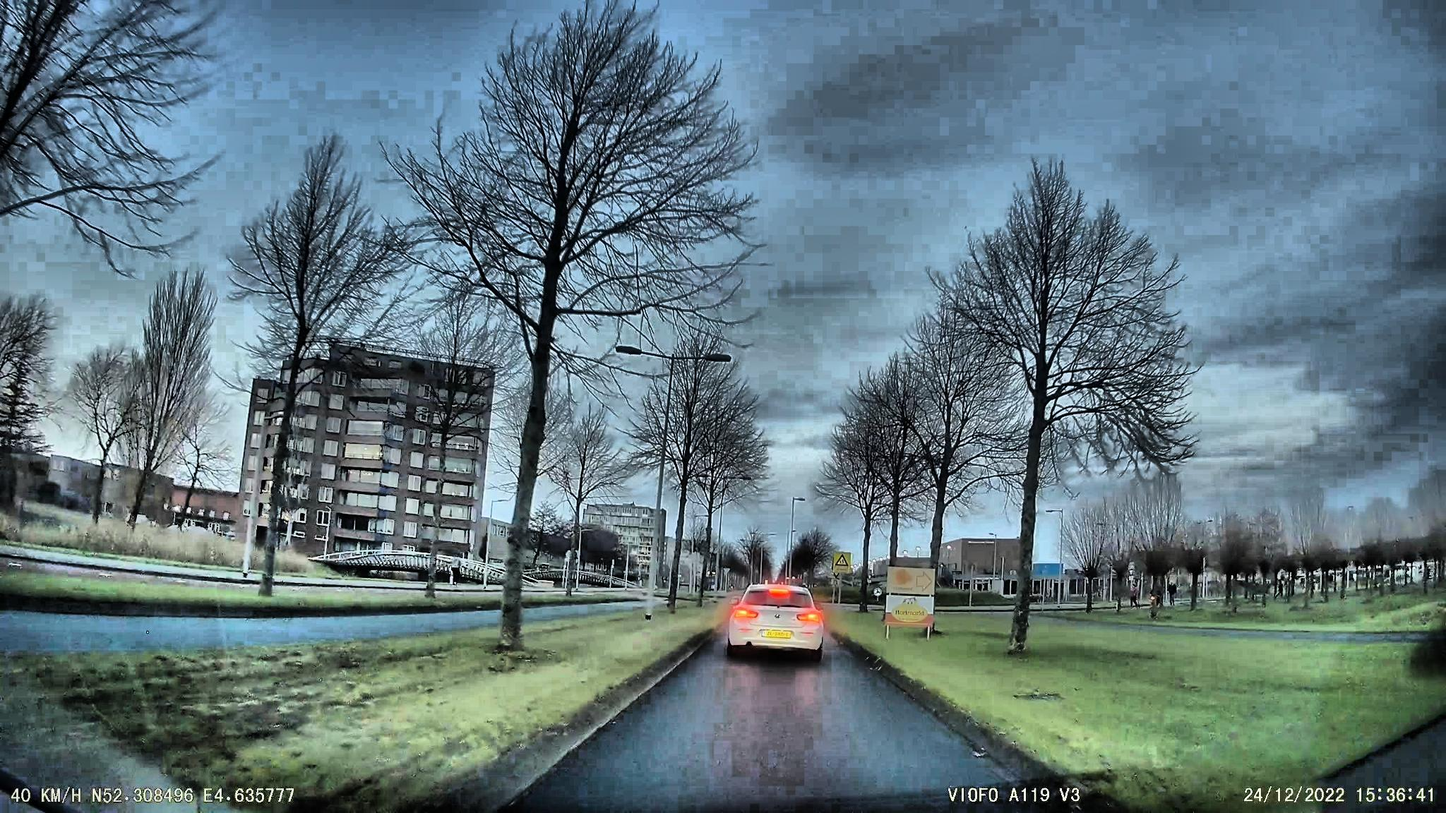Roads: (495, 625, 1091, 813)
